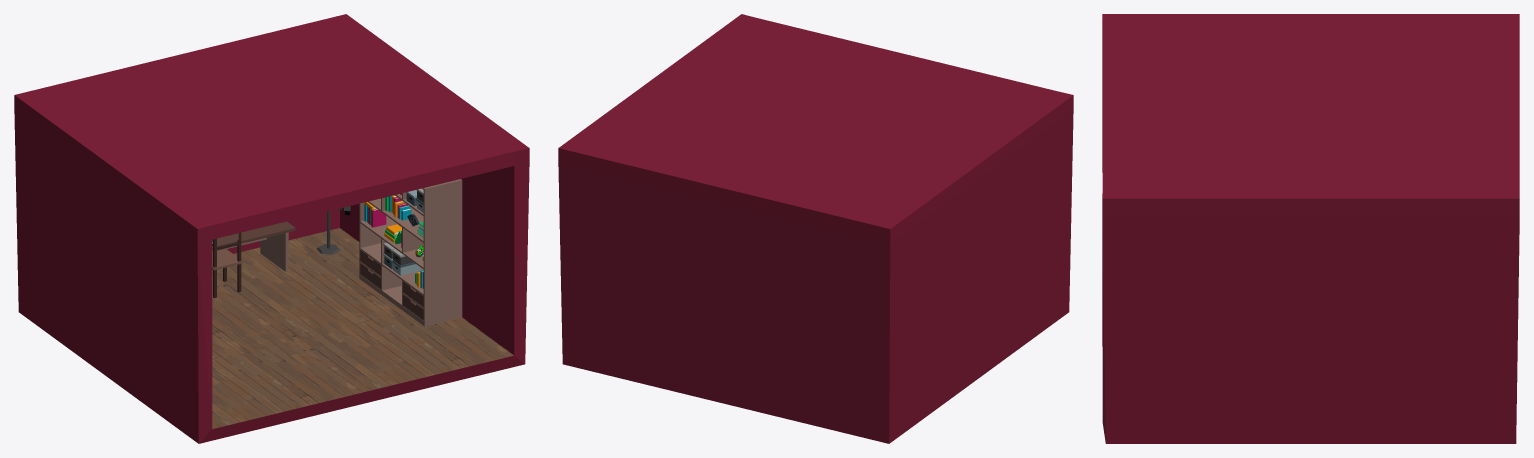
The model's file is point light scene.obj.
3 renders of one model, left to right at view 1: azimuth 30°, elevation 25°; view 2: azimuth 150°, elevation 25°; view 3: azimuth 270°, elevation 25°, orthographic. The views are drawn at different scales.
Visible parts, largest first — view 1: walls_Plane, floor_Plane.001, bookshelf_Cube.002, desk_Cube.006, chair_Cube.010; view 2: walls_Plane; view 3: walls_Plane.
Boxes of the visible parts, x1=… form: walls_Plane: x1=14, y1=14, x2=529, y2=443; floor_Plane.001: x1=212, y1=228, x2=513, y2=428; bookshelf_Cube.002: x1=359, y1=179, x2=462, y2=326; desk_Cube.006: x1=212, y1=221, x2=295, y2=271; chair_Cube.010: x1=212, y1=232, x2=242, y2=298; walls_Plane: x1=558, y1=14, x2=1073, y2=443; walls_Plane: x1=1102, y1=14, x2=1519, y2=443.
Bounding box in the file's own units: 21.98 × 13.71 × 21.01.
Materials: 35 (35 with a texture image).
